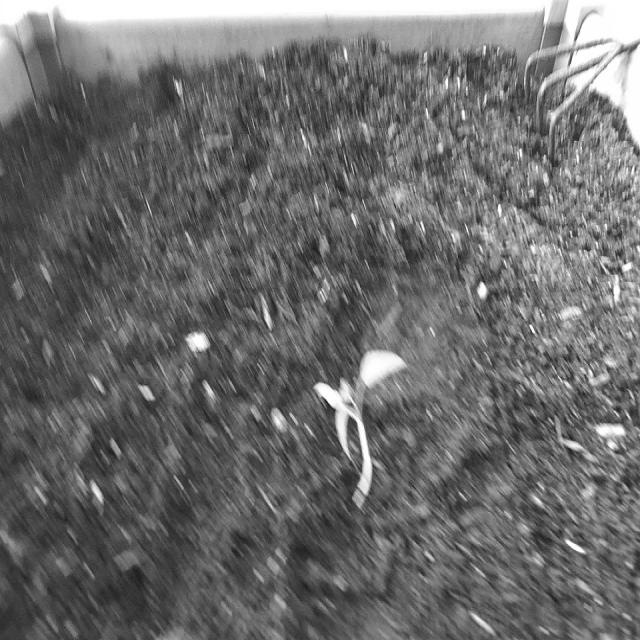Unhealthy: (310, 338, 413, 524)
